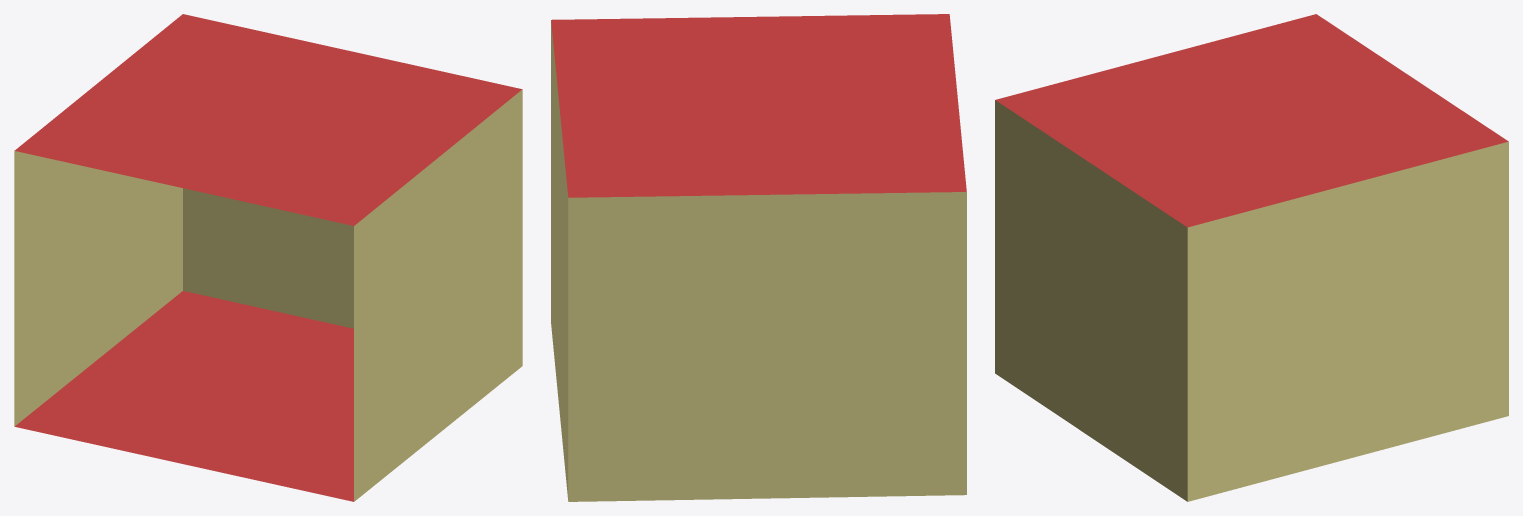
3 renders of one model, left to right at view 1: azimuth 30°, elevation 25°; view 2: azimuth 150°, elevation 25°; view 3: azimuth 270°, elevation 25°, orthographic. The views are drawn at different scales.
Bounding box in the file's own units: 9.28 × 9.4 × 5.54.
